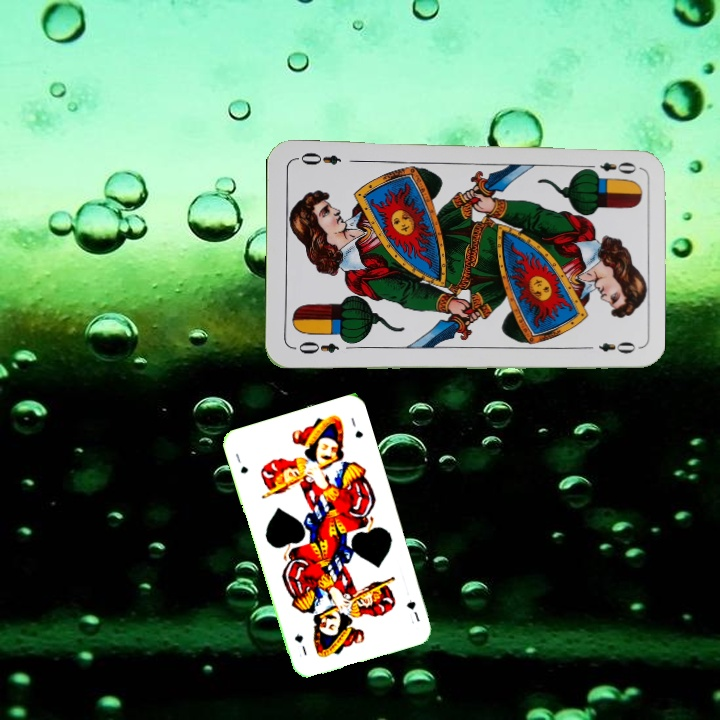EO: (581, 158, 639, 177), (295, 337, 342, 357)
GU: (403, 596, 423, 624), (231, 449, 251, 476)
